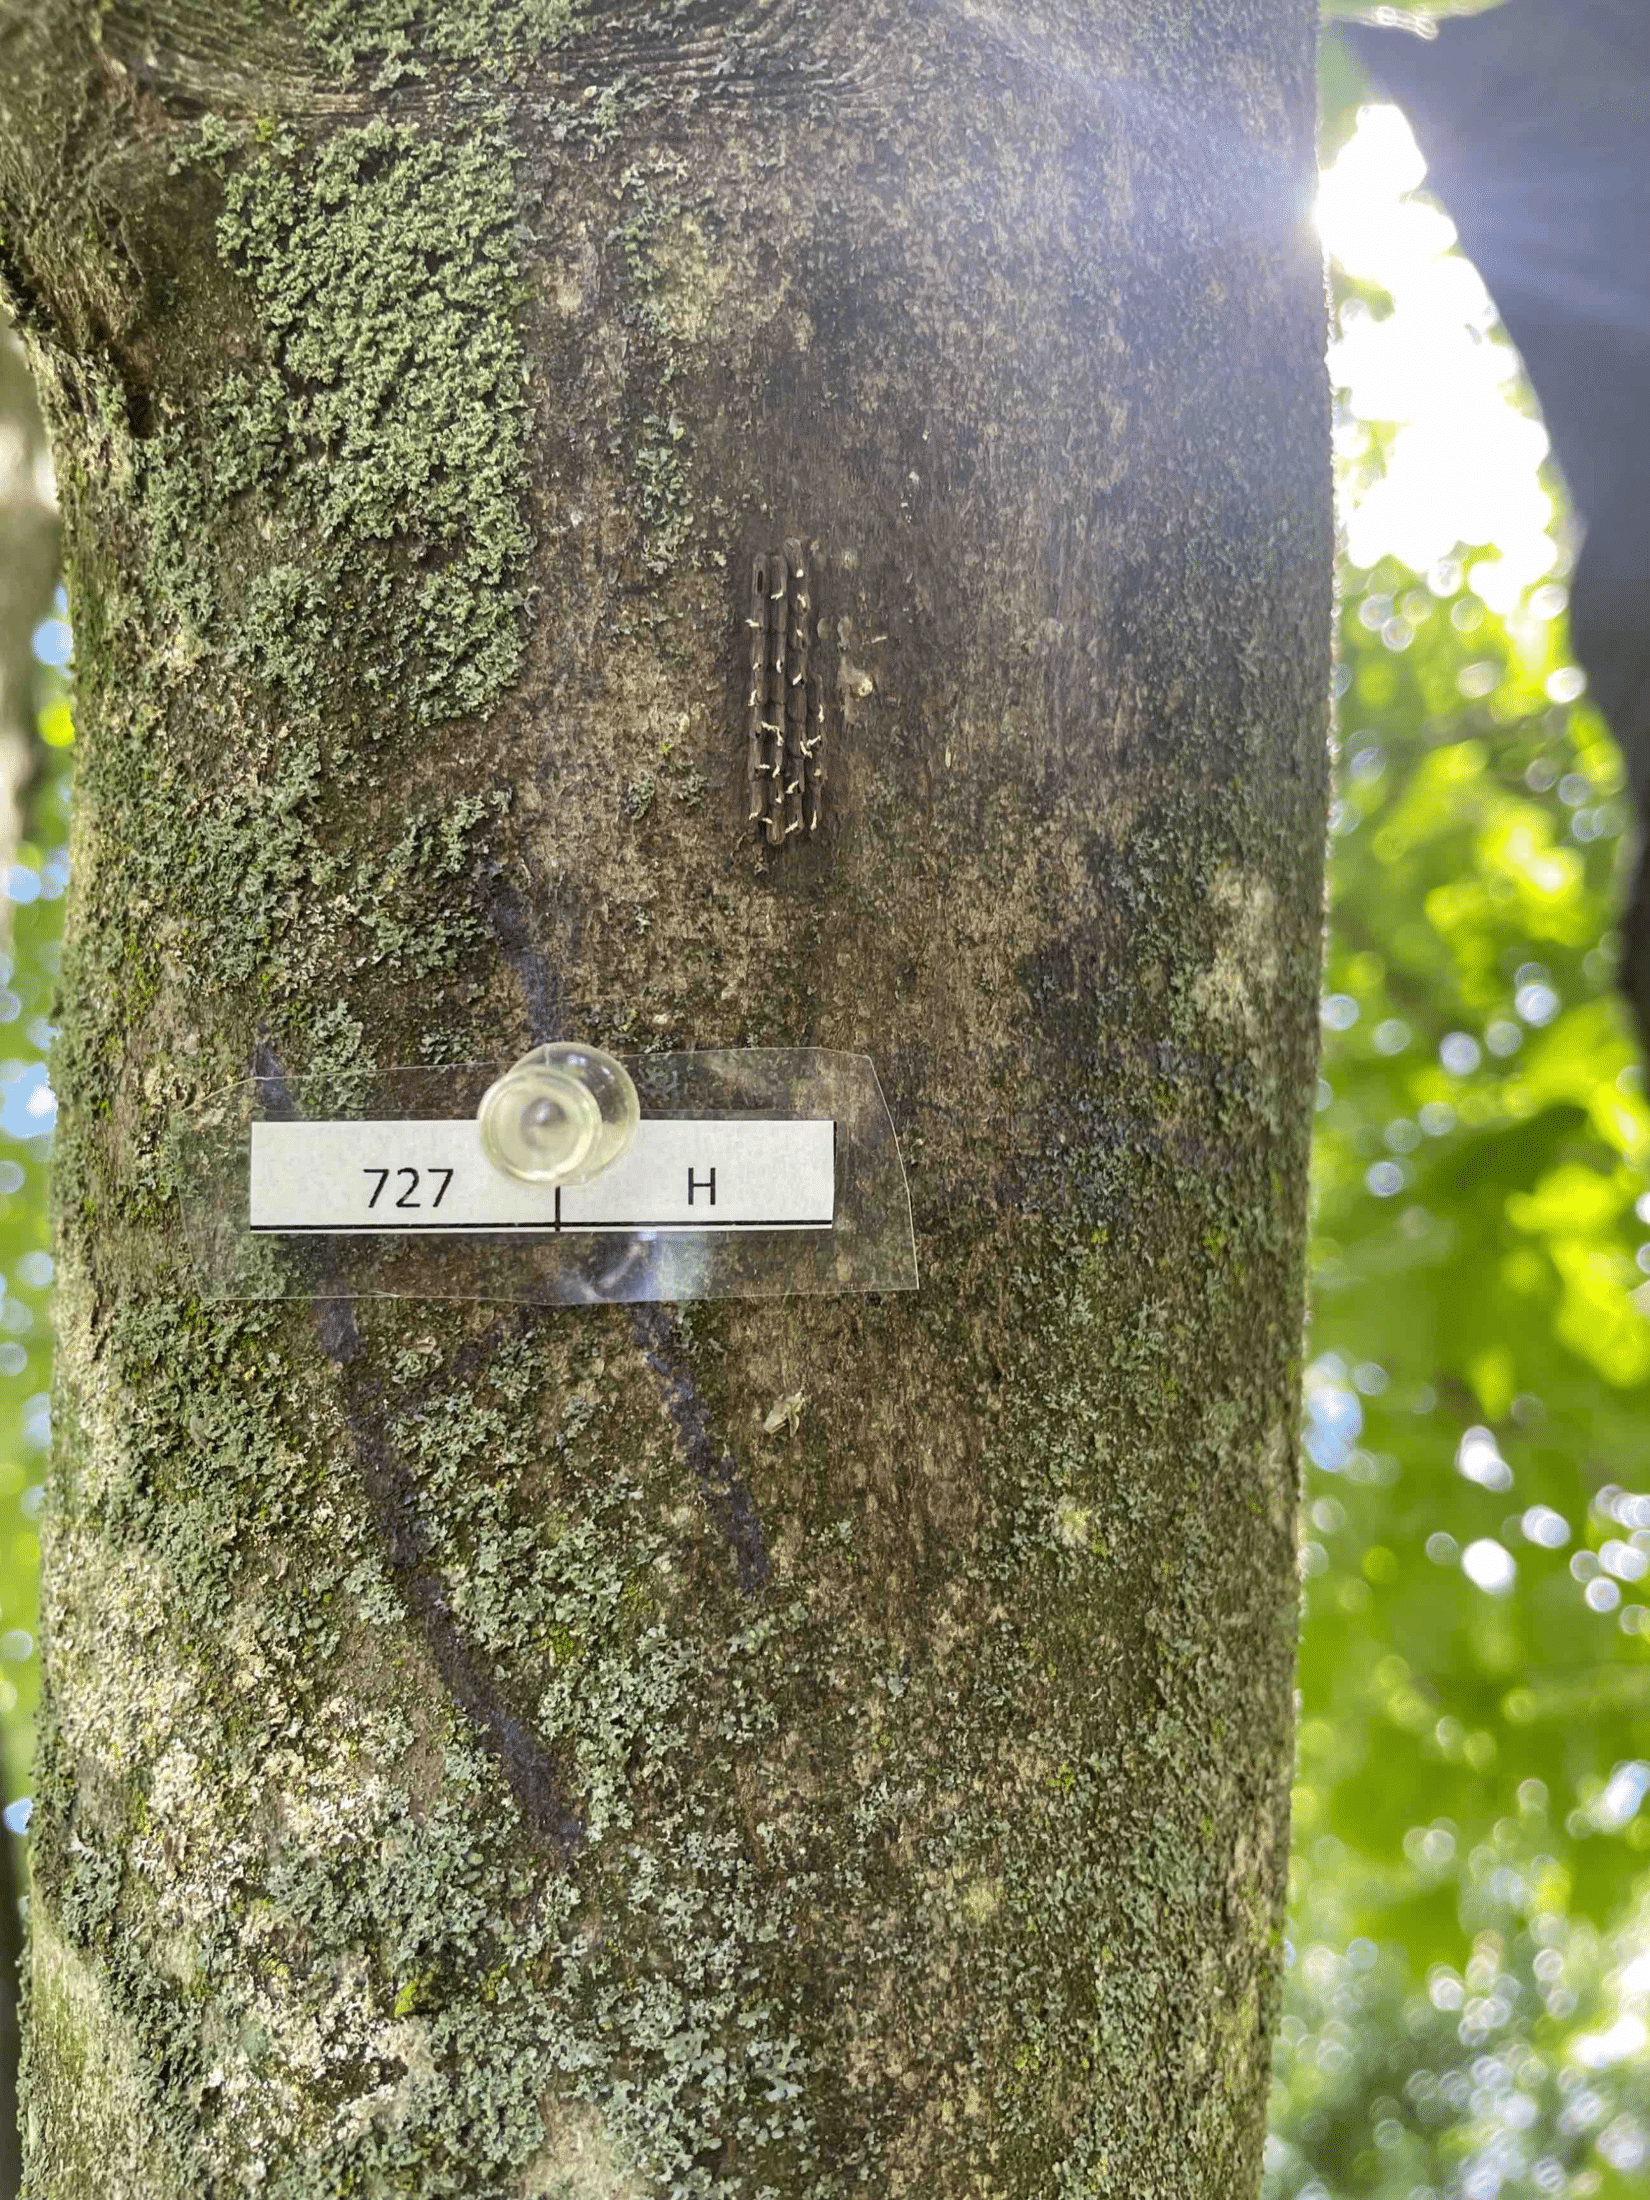egg masses: (697, 502, 879, 915)
